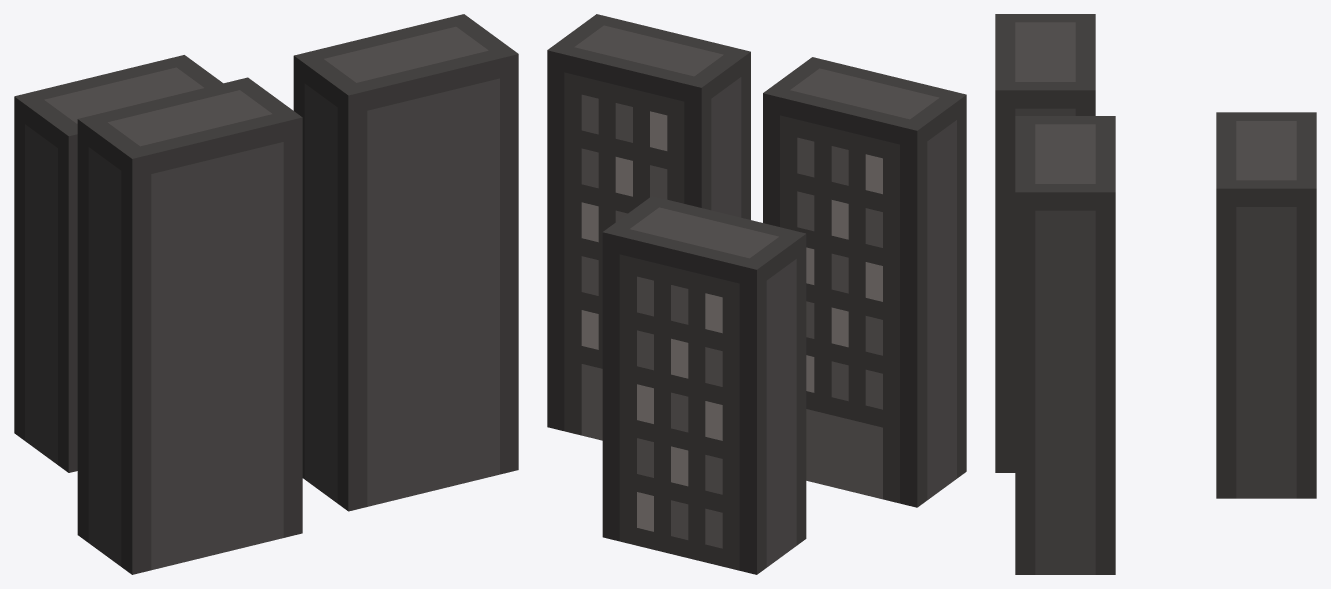
Rendered from Loyal.obj.
3 views of the same model, side by side, from view 1: azimuth 30°, elevation 25°; view 2: azimuth 150°, elevation 25°; view 3: azimuth 270°, elevation 25° (orthographic). The views are drawn at different scales.
Visible parts, largest first — view 1: Loyal; view 2: Loyal; view 3: Loyal.
Part boxes in pixels (x1,y1,x2,y2): Loyal: [14, 14, 518, 574]; Loyal: [547, 14, 966, 574]; Loyal: [995, 14, 1316, 574].
Size of the model in its own units: 2.1 by 2.1 by 1.6.
Materials: 1 (1 with a texture image).
